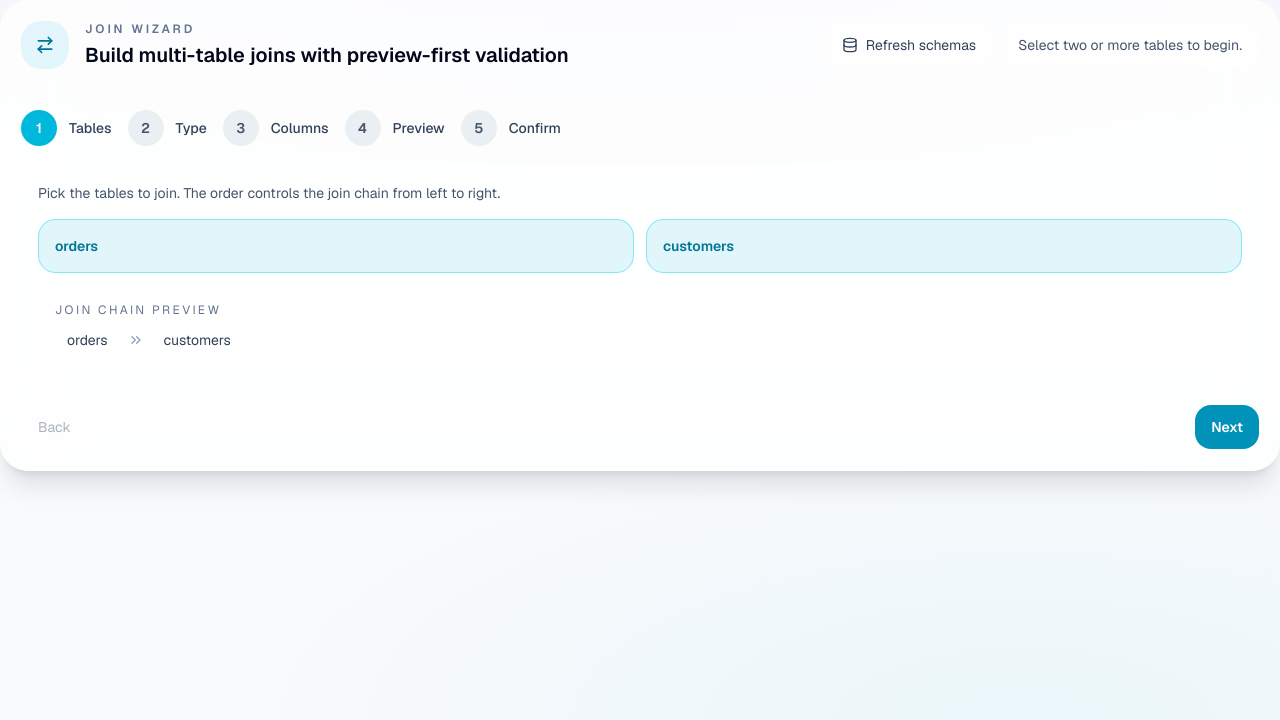
Scenario: DataJoinWizard › previews the join SQL and sample rows
This screenshot has width=1280, height=720.
Step 1. Click the button "Refresh schemas" → (909, 45), box x1=825 y1=22 x2=993 y2=68
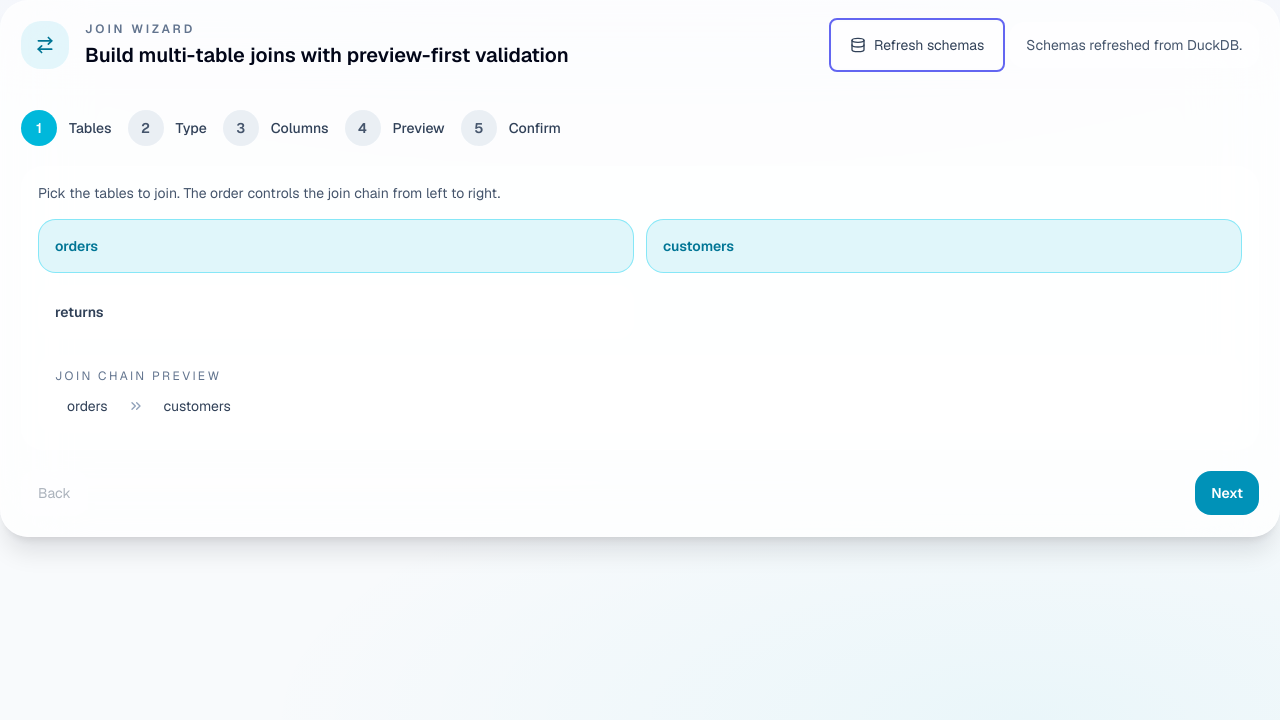
Now the text "Schemas refreshed from DuckDB." is shown, box x1=1009 y1=22 x2=1259 y2=68
Step 2. Click the button "Next" → (1227, 493), box x1=1195 y1=471 x2=1259 y2=515
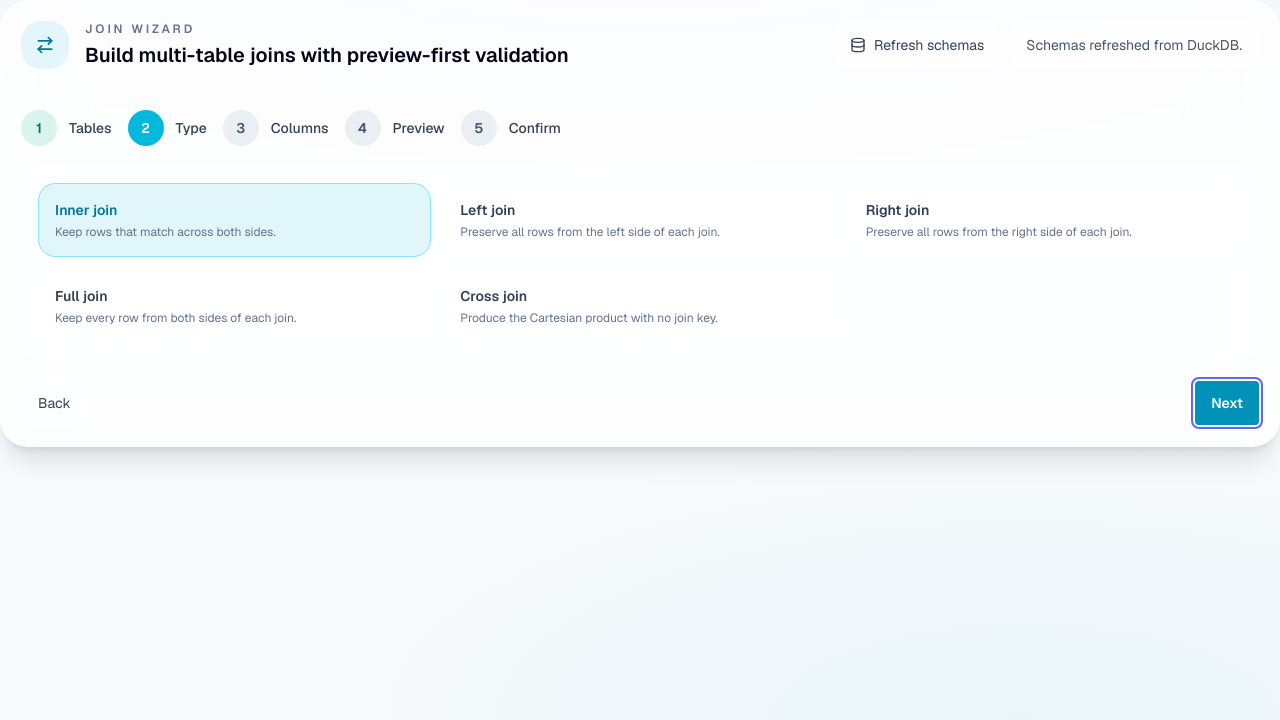
Step 3. Click the button "Next" → (1227, 403), box x1=1195 y1=381 x2=1259 y2=425
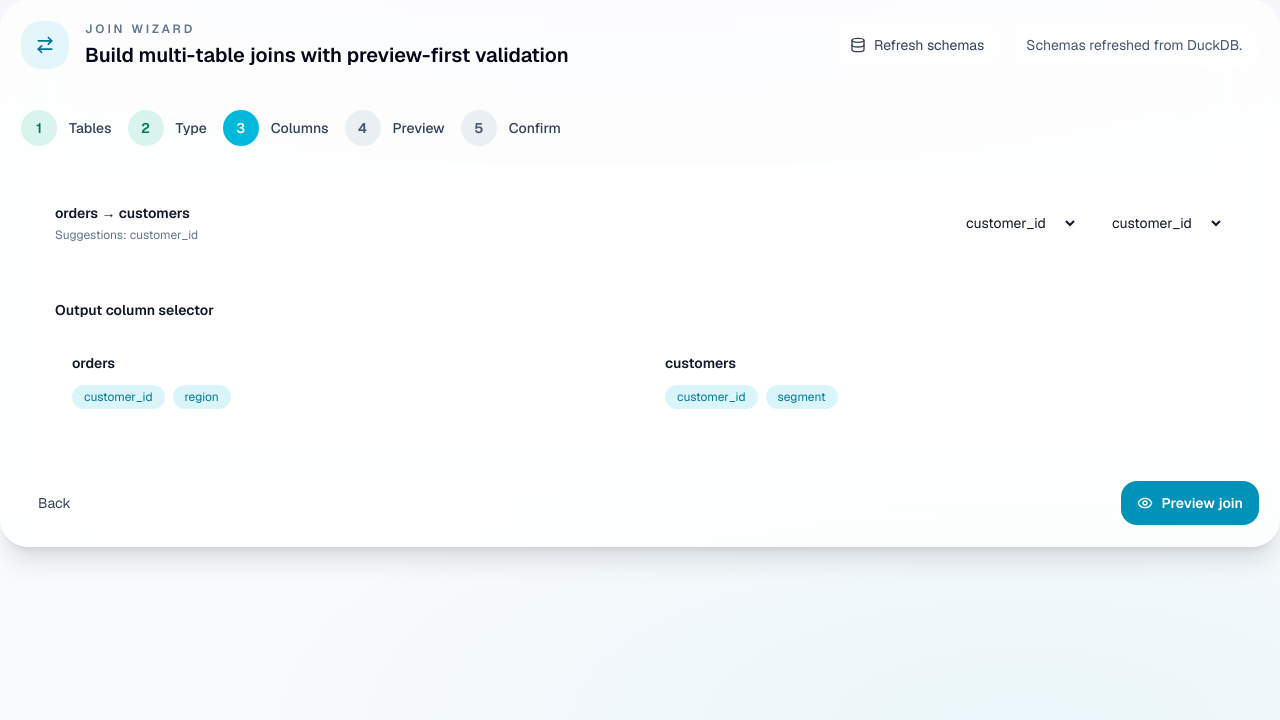
Step 4. Click the button "Preview join" → (1190, 503), box x1=1121 y1=481 x2=1259 y2=525
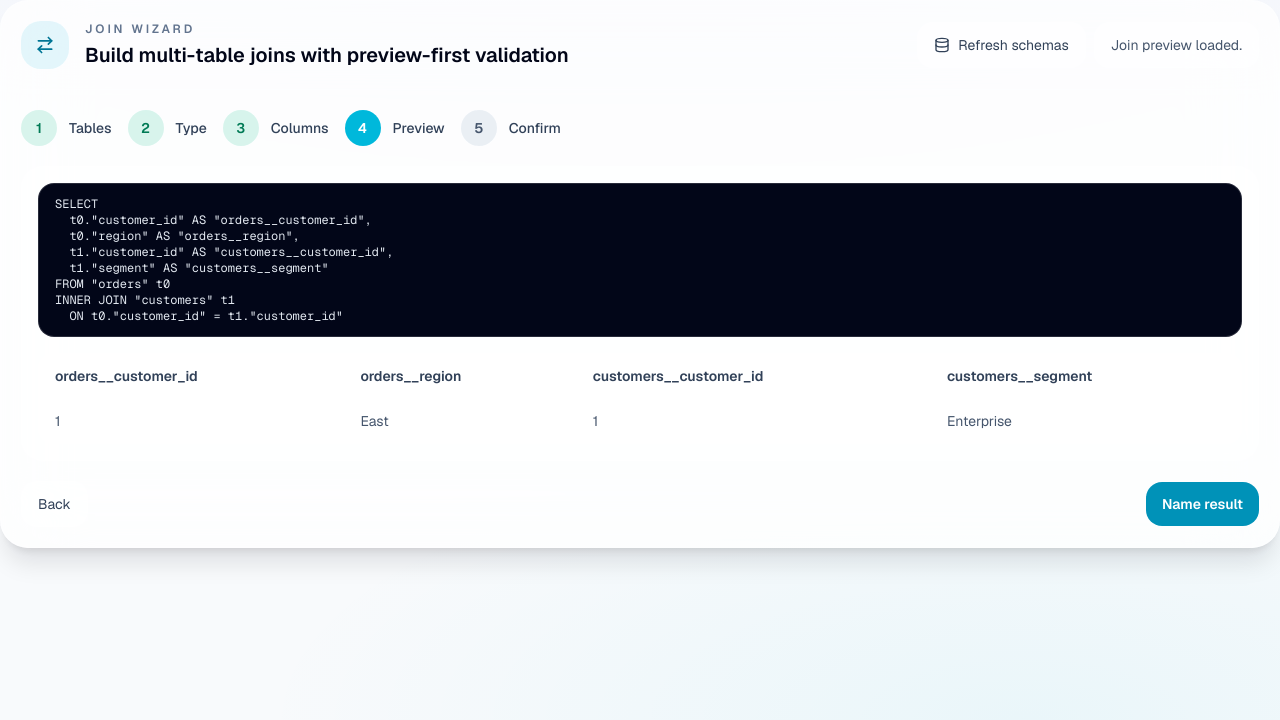
Now the text "Join preview loaded." is shown, box x1=1094 y1=22 x2=1259 y2=68
Now the text "Enterprise" is shown, box x1=931 y1=398 x2=1241 y2=443
